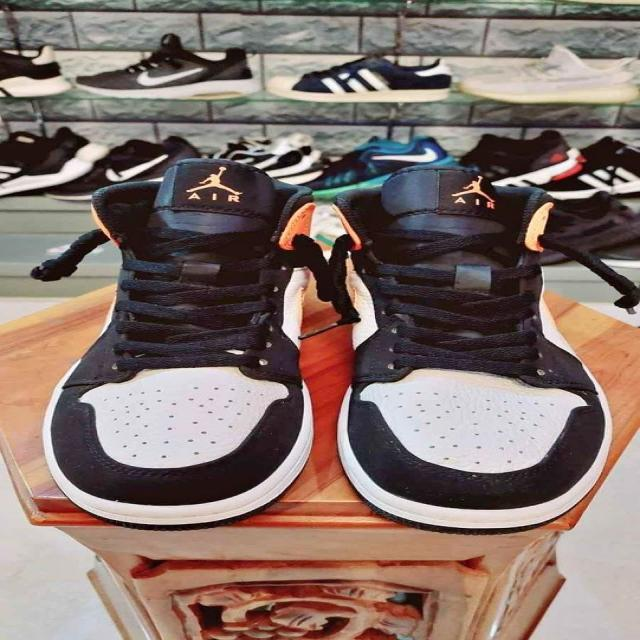nike fake jordan 1: (322, 159, 618, 535), (42, 160, 328, 530)
